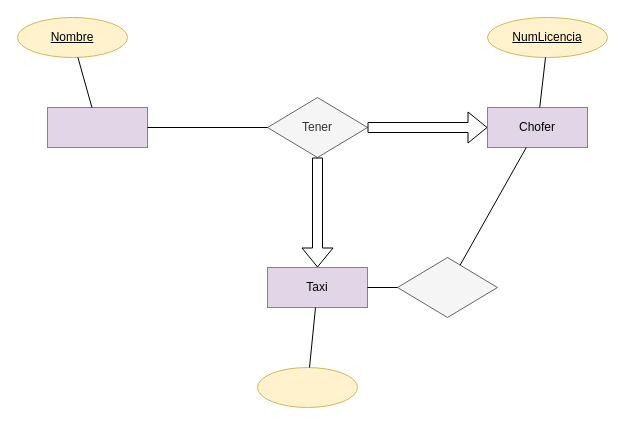
Image size: 625x425. Some labels were removed from this diagram. Here are the shapes that lost their labels. From the top down, the box of each, then its label:
(46, 106, 148, 148): Sitio
(396, 256, 498, 318): Maneja
(256, 366, 358, 408): Placa
